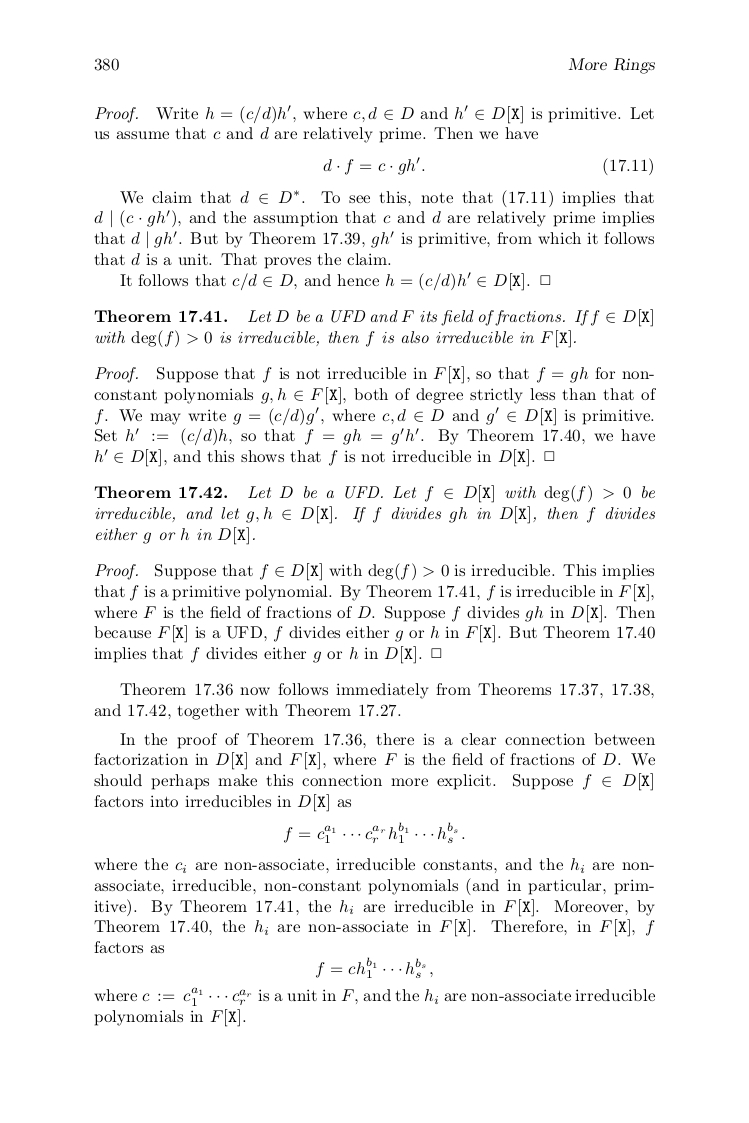formula: (323, 156, 652, 176), (284, 821, 464, 843), (316, 956, 432, 978)
